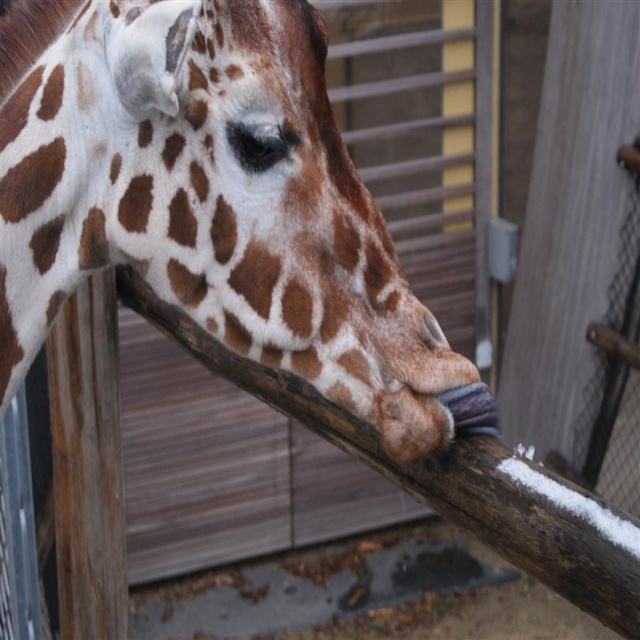Giraffe: (0, 0, 507, 567)
